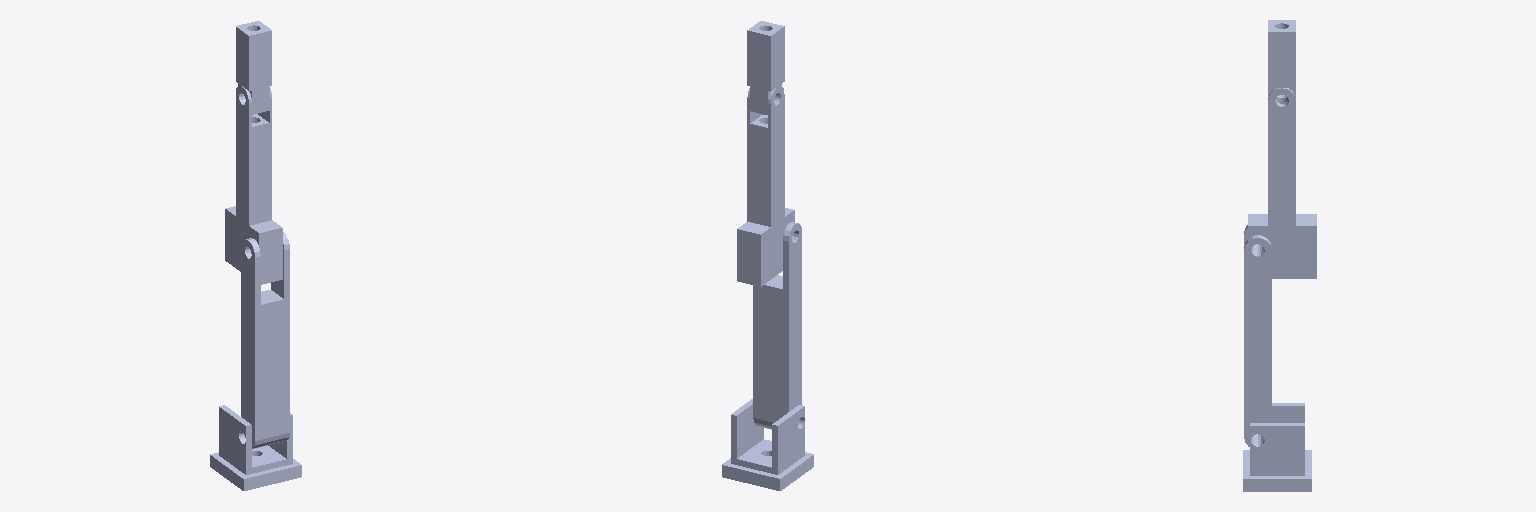
robot.urdf — wroboarm_21:
<?xml version="1.0" encoding="utf-8" ?>
<!-- This URDF was automatically created by SolidWorks to URDF Exporter! Originally created by [author] ([email redacted])
     Commit Version: 1.6.0-1-g15f4949  Build Version: 1.6.7594.29634
     For more information, please see http://wiki.ros.org/sw_urdf_exporter -->
<robot name="wroboarm_21">
    <link name="turntable">

        <inertial>
            <origin xyz="-2.82541936962439E-17 6.93889390390723E-18 -4.24870678161208E-34" rpy="0 0 0" />
            <mass value="0.396806230030924" />
            <inertia ixx="0.000571454150237484" ixy="-2.23834839552239E-21" ixz="1.37054783361242E-37" iyy="0.000571454150237484" iyz="3.23777898172651E-20" izz="0.00110024104924718" />
        </inertial>

        <visual>
            <origin xyz="0 0 0" rpy="0 0 0" />
            <geometry>
                <mesh filename="package://wroboarm_21/meshes/turntable.STL" />
            </geometry>
            <material name="">
                <color rgba="0.792156862745098 0.819607843137255 0.933333333333333 1" />
            </material>
        </visual>
        <collision>
            <origin xyz="0 0 0" rpy="0 0 0" />
            <geometry>
                <mesh filename="package://wroboarm_21/meshes/turntable.STL" />
            </geometry>
        </collision>
    </link>
    <link name="gearbox">

        <inertial>
            <origin xyz="-5.70181409604587E-18 0.0380153243966357 -0.00138922050969218" rpy="0 0 0" />
            <mass value="0.341209853046385" />
            <inertia ixx="0.000637264883384741" ixy="6.24923664103596E-20" ixz="-2.71681384497167E-19" iyy="0.000834504397618049" iyz="1.62941368108056E-05" izz="0.000889318878925749" />
        </inertial>

        <visual>
            <origin xyz="0 0 0" rpy="0 0 0" />
            <geometry>
                <mesh filename="package://wroboarm_21/meshes/gearbox.STL" />
            </geometry>
            <material name="">
                <color rgba="0.792156862745098 0.819607843137255 0.933333333333333 1" />
            </material>
        </visual>
        <collision>
            <origin xyz="0 0 0" rpy="0 0 0" />
            <geometry>
                <mesh filename="package://wroboarm_21/meshes/gearbox.STL" />
            </geometry>
        </collision>
    </link>
    <joint name="link1_joint" type="revolute">
        <origin xyz="0 0 0.0127" rpy="1.5708 0 0" />
        <parent link="turntable" />
        <child link="gearbox" />
        <axis xyz="0 1 0" />
        <limit effort="50" velocity="1.5" lower="-3.1" upper="3.1"/>
    </joint>
    <link name="upperarm">

        <inertial>
            <origin xyz="1.49614561175028E-17 0.157206632847804 2.77555756156289E-17" rpy="0 0 0" />
            <mass value="1.26412421587631" />
            <inertia ixx="0.0136779903910557" ixy="3.22448390771324E-19" ixz="3.96119838307109E-20" iyy="0.000964387075304149" iyz="-2.67429553724681E-18" izz="0.0140917496737089" />
        </inertial>

        <visual>
            <origin xyz="0 0 0" rpy="0 0 0" />
            <geometry>
                <mesh filename="package://wroboarm_21/meshes/upperarm.STL" />
            </geometry>
            <material name="">
                <color rgba="0.792156862745098 0.819607843137255 0.933333333333333 1" />
            </material>
        </visual>
        <collision>
            <origin xyz="0 0 0" rpy="0 0 0" />
            <geometry>
                <mesh filename="package://wroboarm_21/meshes/upperarm.STL" />
            </geometry>
        </collision>
    </link>
    <joint name="link2_joint" type="revolute">
        <origin xyz="0 0.07239 0.03683" rpy="0 0 0" />
        <parent link="gearbox" />
        <child link="upperarm" />
        <axis xyz="1 0 0" />
        <limit effort="50" velocity="1.5" lower="-0.349" upper="0.78539"/>
    </joint>
    <link name="elbow">

        <inertial>
            <origin xyz="7.33210423758527E-18 0.0462797200039115 -0.00991708285798099" rpy="0 0 0" />
            <mass value="0.625328404239412" />
            <inertia ixx="0.00150936287881219" ixy="7.22519589370286E-20" ixz="2.65311197270661E-20" iyy="0.000771504125821615" iyz="-1.13468871077225E-05" izz="0.00102329905512323" />
        </inertial>

        <visual>
            <origin xyz="0 0 0" rpy="0 0 0" />
            <geometry>
                <mesh filename="package://wroboarm_21/meshes/elbow.STL" />
            </geometry>
            <material name="">
                <color rgba="0.792156862745098 0.819607843137255 0.933333333333333 1" />
            </material>
        </visual>
        <collision>
            <origin xyz="0 0 0" rpy="0 0 0" />
            <geometry>
                <mesh filename="package://wroboarm_21/meshes/elbow.STL" />
            </geometry>
        </collision>
    </link>
    <joint name="link3_joint" type="revolute">
        <origin xyz="0 0.381 0" rpy="-1.5708 0 0" />
        <parent link="upperarm" />
        <child link="elbow" />
        <axis xyz="1 0 0" />
        <limit effort="50" velocity="1.5" lower="0" upper="3.1"/>
    </joint>
    <link name="forearm">

        <inertial>
            <origin xyz="-1.32860243738577E-17 -1.90819582357449E-17 -0.113066392198771" rpy="0 0 0" />
            <mass value="0.460632401231927" />
            <inertia ixx="0.00223620566444836" ixy="2.86239968572403E-21" ixz="-5.06454254732662E-20" iyy="0.00224684031586386" iyz="-3.05817065058502E-19" izz="0.000245602268076572" />
        </inertial>

        <visual>
            <origin xyz="0 0 0" rpy="0 0 0" />
            <geometry>
                <mesh filename="package://wroboarm_21/meshes/forearm.STL" />
            </geometry>
            <material name="">
                <color rgba="0.792156862745098 0.819607843137255 0.933333333333333 1" />
            </material>
        </visual>
        <collision>
            <origin xyz="0 0 0" rpy="0 0 0" />
            <geometry>
                <mesh filename="package://wroboarm_21/meshes/forearm.STL" />
            </geometry>
        </collision>
    </link>
    <joint name="link4_joint" type="revolute">
        <origin xyz="0 0.04445 0.04445" rpy="3.1416 0 0" />
        <parent link="elbow" />
        <child link="forearm" />
        <axis xyz="0 0 1" />
        <limit effort="50" velocity="1.5" lower="-3.1" upper="3.1"/>
    </joint>
    <link name="wrist">

        <inertial>
            <origin xyz="-7.1276563552947E-09 7.80625564189563E-18 -3.41498918032812E-09" rpy="0 0 0" />
            <mass value="0.0642008901362293" />
            <inertia ixx="3.49809093099438E-05" ixy="5.28878027298075E-11" ixz="1.56594471999825E-18" iyy="2.42909279281571E-05" iyz="-4.37083043679572E-11" izz="2.86709715099874E-05" />
        </inertial>

        <visual>
            <origin xyz="0 0 0" rpy="0 0 0" />
            <geometry>
                <mesh filename="package://wroboarm_21/meshes/wrist.STL" />
            </geometry>
            <material name="">
                <color rgba="0.792156862745098 0.819607843137255 0.933333333333333 1" />
            </material>
        </visual>
        <collision>
            <origin xyz="0 0 0" rpy="0 0 0" />
            <geometry>
                <mesh filename="package://wroboarm_21/meshes/wrist.STL" />
            </geometry>
        </collision>
    </link>
    <joint name="link5_joint" type="revolute">
        <origin xyz="0 0 -0.254" rpy="3.1416 0 0" />
        <parent link="forearm" />
        <child link="wrist" />
        <axis xyz="1 0 0" />
        <limit effort="50" velocity="1.5" lower="-3.1" upper="3.1"/>
    </joint>

    <link name="dummy">
    </link>

    <joint name="link6_joint" type="revolute">

        <origin xyz="0 0 0" rpy="0 0 0" />
        <parent link="wrist" />
        <child link="dummy" />
        <axis xyz="1 0 0" />
        <limit effort="50" velocity="1.5" lower="-1.5707963267948966" upper="1.5707963267948966"/>

    </joint>

    <link name="manipulator">

        <inertial>
            <origin xyz="5.8113236445223E-17 1.74020910368395E-17 -0.05715" rpy="0 0 0" />
            <mass value="0.237050487139156" />
            <inertia ixx="0.000319176967769642" ixy="-3.08271195529153E-21" ixz="3.16873566981017E-20" iyy="0.000319176967769642" iyz="7.05373762522642E-20" izz="0.000122196649085178" />
        </inertial>

        <visual>
            <origin xyz="0 0 0" rpy="0 0 0" />
            <geometry>
                <mesh filename="package://wroboarm_21/meshes/manipulator.STL" />
            </geometry>
            <material name="">
                <color rgba="0.792156862745098 0.819607843137255 0.933333333333333 1" />
            </material>
        </visual>
        <collision>
            <origin xyz="0 0 0" rpy="0 0 0" />
            <geometry>
                <mesh filename="package://wroboarm_21/meshes/manipulator.STL" />
            </geometry>
        </collision>
    </link>
    <joint name="link7_joint" type="revolute">
        <origin xyz="0 0 0.0254" rpy="3.1416 0 0" />
        <parent link="dummy" />
        <child link="manipulator" />
        <axis xyz="0 0 1" />
        <limit effort="50" velocity="1.5" lower="-3.15" upper="3.15"/>
    </joint>

    <transmission name="trans_link1_joint">
        <type>transmission_interface/SimpleTransmission</type>
        <joint name="link1_joint">
            <hardwareInterface>hardware_interface/EffortJointInterface</hardwareInterface>
        </joint>
        <actuator name="link1_joint_motor">
            <hardwareInterface>hardware_interface/EffortJointInterface</hardwareInterface>
            <mechanicalReduction>1</mechanicalReduction>
        </actuator>
    </transmission>
    <transmission name="trans_link2_joint">
        <type>transmission_interface/SimpleTransmission</type>
        <joint name="link2_joint">
            <hardwareInterface>hardware_interface/EffortJointInterface</hardwareInterface>
        </joint>
        <actuator name="link2_joint_motor">
            <hardwareInterface>hardware_interface/EffortJointInterface</hardwareInterface>
            <mechanicalReduction>1</mechanicalReduction>
        </actuator>
    </transmission>
    <transmission name="trans_link3_joint">
        <type>transmission_interface/SimpleTransmission</type>
        <joint name="link3_joint">
            <hardwareInterface>hardware_interface/EffortJointInterface</hardwareInterface>
        </joint>
        <actuator name="link3_joint_motor">
            <hardwareInterface>hardware_interface/EffortJointInterface</hardwareInterface>
            <mechanicalReduction>1</mechanicalReduction>
        </actuator>
    </transmission>
    <transmission name="trans_link4_joint">
        <type>transmission_interface/SimpleTransmission</type>
        <joint name="link4_joint">
            <hardwareInterface>hardware_interface/EffortJointInterface</hardwareInterface>
        </joint>
        <actuator name="link4_joint_motor">
            <hardwareInterface>hardware_interface/EffortJointInterface</hardwareInterface>
            <mechanicalReduction>1</mechanicalReduction>
        </actuator>
    </transmission>
    <transmission name="trans_link5_joint">
        <type>transmission_interface/SimpleTransmission</type>
        <joint name="link5_joint">
            <hardwareInterface>hardware_interface/EffortJointInterface</hardwareInterface>
        </joint>
        <actuator name="link5_joint_motor">
            <hardwareInterface>hardware_interface/EffortJointInterface</hardwareInterface>
            <mechanicalReduction>1</mechanicalReduction>
        </actuator>
    </transmission>
    <transmission name="trans_link67_joint">
        <type>transmission_interface/DifferentialTransmission</type>
        <actuator name="link6_joint_motor">
            <role>actuator1</role>
            <hardwareInterface>hardware_interface/EffortJointInterface</hardwareInterface>
            <mechanicalReduction>1</mechanicalReduction>
        </actuator>
        <actuator name="link7_joint_motor">
            <role>actuator2</role>
            <hardwareInterface>hardware_interface/EffortJointInterface</hardwareInterface>
            <mechanicalReduction>1</mechanicalReduction>
        </actuator>
        <joint name="link6_joint">
            <hardwareInterface>hardware_interface/EffortJointInterface</hardwareInterface>
        </joint>
        <joint name="link7_joint">
            <hardwareInterface>hardware_interface/EffortJointInterface</hardwareInterface>
        </joint>
    </transmission>

    <gazebo>
        <plugin name="gazebo_ros_control" filename="libgazebo_ros_control.so">
            <robotNamespace>/</robotNamespace>
        </plugin>
    </gazebo>
</robot>

--- Render facts (derived) ---
The picture shows the robot from 3 angles, left to right: view 1: azimuth 30°, elevation 25°; view 2: azimuth 150°, elevation 25°; view 3: azimuth 270°, elevation 25°; orthographic projection.
Robot: wroboarm_21 — 8 links, 7 joints (7 revolute); root link turntable; default pose: all joints at 0.
Visible links, largest first — view 1: upperarm, forearm, gearbox, elbow, manipulator, turntable; view 2: upperarm, forearm, gearbox, elbow, manipulator, turntable; view 3: upperarm, forearm, gearbox, elbow, manipulator, turntable.
Link boxes in pixels (x1=…): upperarm: x1=241, y1=232, x2=289, y2=448; forearm: x1=236, y1=85, x2=271, y2=225; gearbox: x1=219, y1=405, x2=292, y2=474; elbow: x1=225, y1=206, x2=282, y2=284; manipulator: x1=236, y1=21, x2=271, y2=90; turntable: x1=210, y1=452, x2=301, y2=490; upperarm: x1=753, y1=222, x2=801, y2=429; forearm: x1=747, y1=86, x2=784, y2=226; gearbox: x1=731, y1=399, x2=804, y2=474; elbow: x1=737, y1=208, x2=794, y2=286; manipulator: x1=747, y1=21, x2=784, y2=91; turntable: x1=722, y1=452, x2=813, y2=490; upperarm: x1=1244, y1=225, x2=1271, y2=446; forearm: x1=1268, y1=88, x2=1295, y2=225; gearbox: x1=1250, y1=403, x2=1304, y2=475; elbow: x1=1248, y1=214, x2=1316, y2=278; manipulator: x1=1268, y1=20, x2=1295, y2=87; turntable: x1=1243, y1=450, x2=1311, y2=491.
Size in the robot's own frame: 0.127 by 0.1346 by 0.9169 metres.
7 mesh visuals loaded from 7 distinct referenced files (7 binary STL).